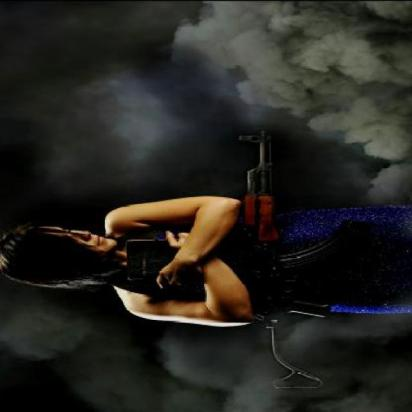Gun: (238, 116, 339, 336)
